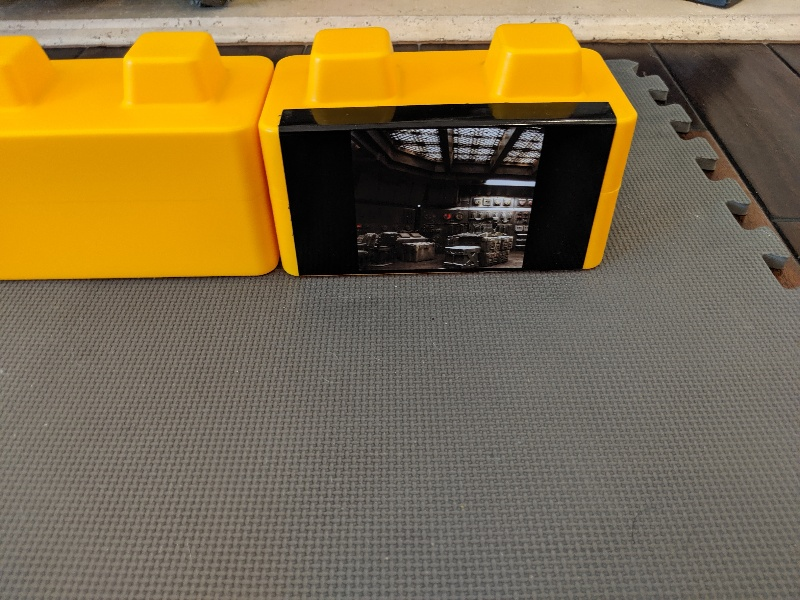Skystone: (268, 96, 624, 285)
